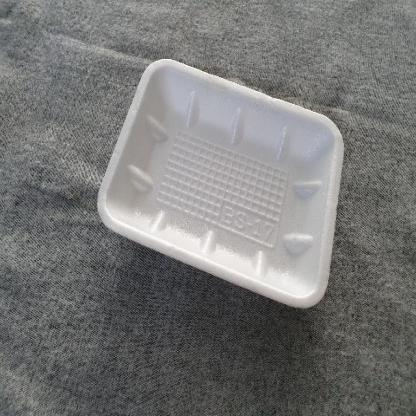Glass Cup: (97, 58, 345, 310), (98, 59, 344, 308)
